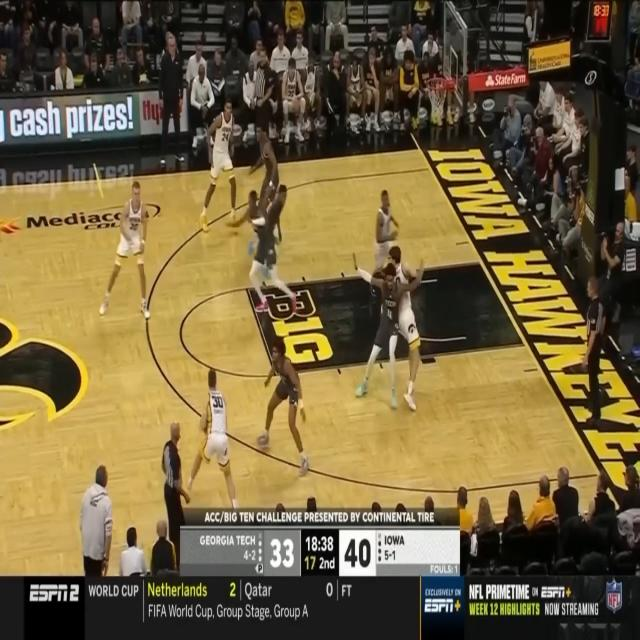Ball: (202, 416, 208, 432)
Hoop: (427, 76, 448, 125)
Period: (319, 557, 336, 570)
Player: (353, 250, 424, 412), (224, 188, 297, 314), (255, 337, 310, 480), (185, 366, 240, 508), (98, 178, 150, 320), (386, 242, 420, 413), (199, 99, 238, 231), (248, 122, 280, 242), (247, 184, 288, 277), (368, 188, 399, 296)
Ref: (582, 273, 607, 428), (162, 418, 190, 542), (251, 46, 276, 147)
Shot Clock: (304, 556, 316, 571)
Team Name: (199, 534, 256, 548), (384, 533, 406, 547)
Team Points: (344, 536, 372, 570), (269, 538, 295, 570)
Time Remaining: (306, 534, 334, 553)
